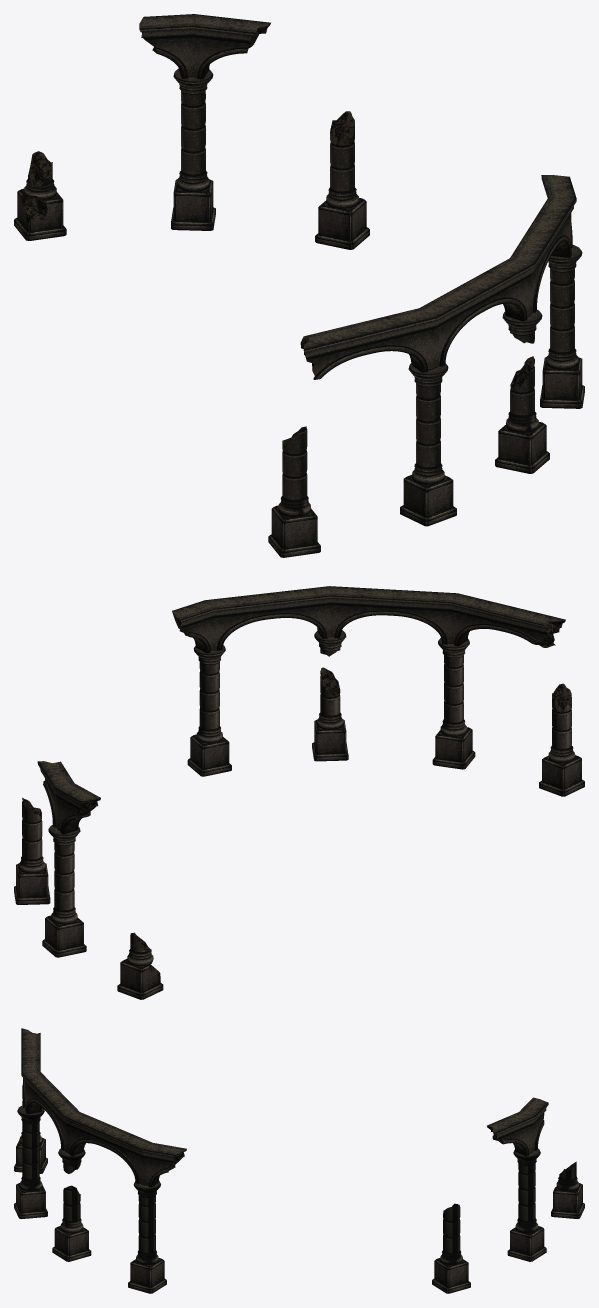
The model's file is EnvMdrMD_Atl_A_Arch_A_Broken_Battle.FBX.
3 renders of one model, top to bottom at view 1: azimuth 30°, elevation 25°; view 2: azimuth 150°, elevation 25°; view 3: azimuth 270°, elevation 25°, orthographic. The views are drawn at different scales.
Visible parts, largest first — view 1: EnvMdrMD_Atl_A_Arch_A_Broken_Battle; view 2: EnvMdrMD_Atl_A_Arch_A_Broken_Battle; view 3: EnvMdrMD_Atl_A_Arch_A_Broken_Battle.
Part boxes in pixels (left/top/right/bottom): EnvMdrMD_Atl_A_Arch_A_Broken_Battle: left=14, top=14, right=584, bottom=557; EnvMdrMD_Atl_A_Arch_A_Broken_Battle: left=14, top=586, right=584, bottom=999; EnvMdrMD_Atl_A_Arch_A_Broken_Battle: left=14, top=1028, right=584, bottom=1293.
Size of the model in its own units: 1840 by 885 by 3285.
